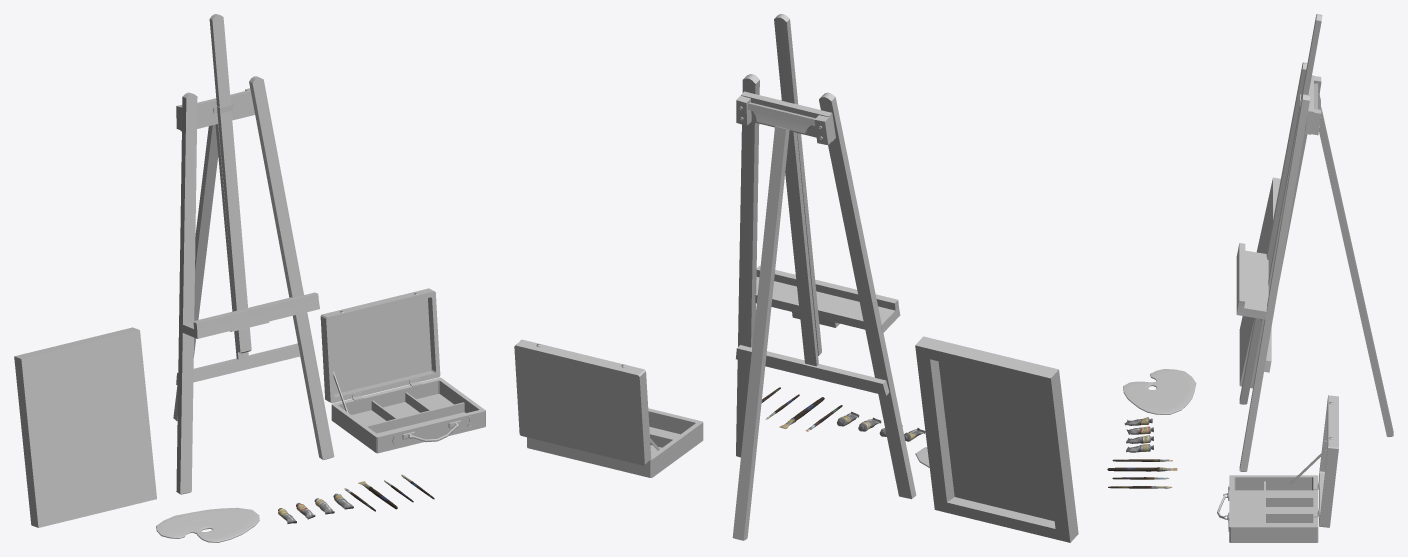
File: ArtSupplyProps.fbx
The picture shows the model from 3 angles, left to right: view 1: azimuth 30°, elevation 25°; view 2: azimuth 150°, elevation 25°; view 3: azimuth 270°, elevation 25°; orthographic projection. The views are drawn at different scales.
Parts seen in each view (by area): view 1: EaselMerged, Canvas, ArtBoxMerged, Palette; view 2: EaselMerged, Canvas, ArtBoxMerged; view 3: EaselMerged, ArtBoxMerged, Palette, Canvas.
Boxes of the visible parts, bbox=[...] form: EaselMerged: bbox=[173, 14, 334, 494]; Canvas: bbox=[14, 327, 156, 527]; ArtBoxMerged: bbox=[320, 288, 485, 453]; Palette: bbox=[156, 507, 259, 542]; EaselMerged: bbox=[732, 14, 916, 540]; Canvas: bbox=[915, 336, 1078, 542]; ArtBoxMerged: bbox=[514, 339, 703, 477]; EaselMerged: bbox=[1236, 14, 1393, 471]; ArtBoxMerged: bbox=[1217, 395, 1338, 542]; Palette: bbox=[1123, 369, 1196, 414]; Canvas: bbox=[1239, 177, 1280, 388].
Size of the model in its own units: 47.16 by 44.21 by 27.14.
